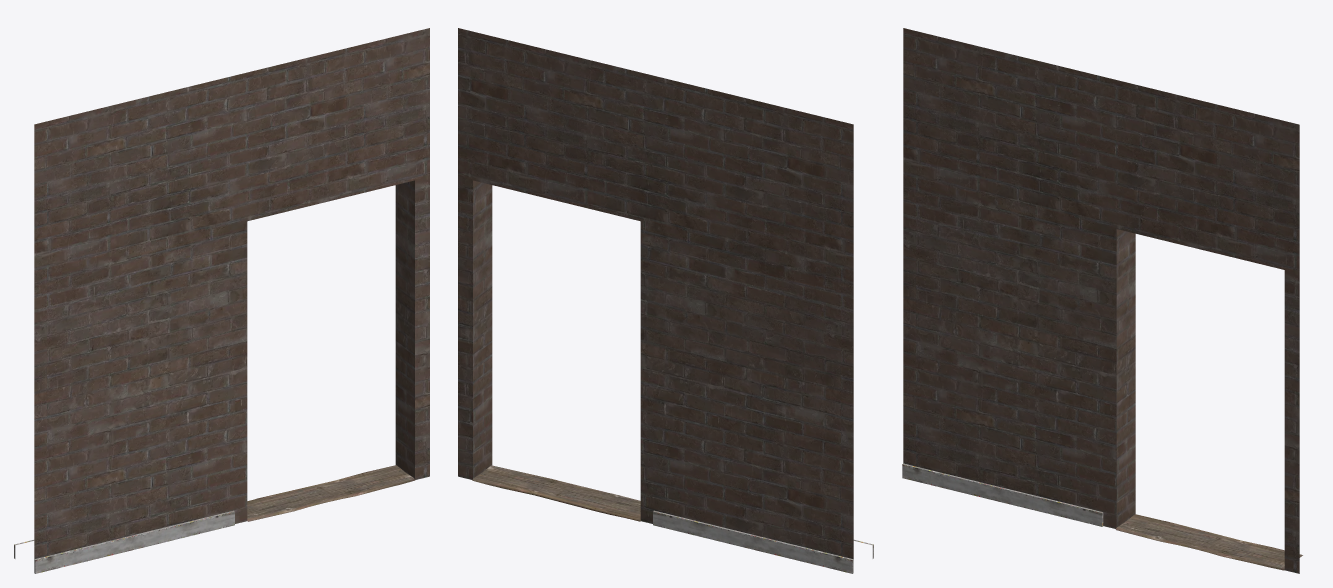
File: mh_wall_300_b.glb
3 renders of one model, left to right at view 1: azimuth 30°, elevation 25°; view 2: azimuth 150°, elevation 25°; view 3: azimuth 330°, elevation 25°, orthographic.
Parts seen in each view (by area): view 1: mh_wall_300_b_LOD0; view 2: mh_wall_300_b_LOD0; view 3: mh_wall_300_b_LOD0.
Part boxes in pixels (x1=…): mh_wall_300_b_LOD0: x1=14, y1=28, x2=429, y2=573; mh_wall_300_b_LOD0: x1=458, y1=28, x2=873, y2=573; mh_wall_300_b_LOD0: x1=902, y1=28, x2=1302, y2=573.
Bounding box in the file's own units: 3 × 3.25 × 0.2872.
Materials: 3 (3 with a texture image).
